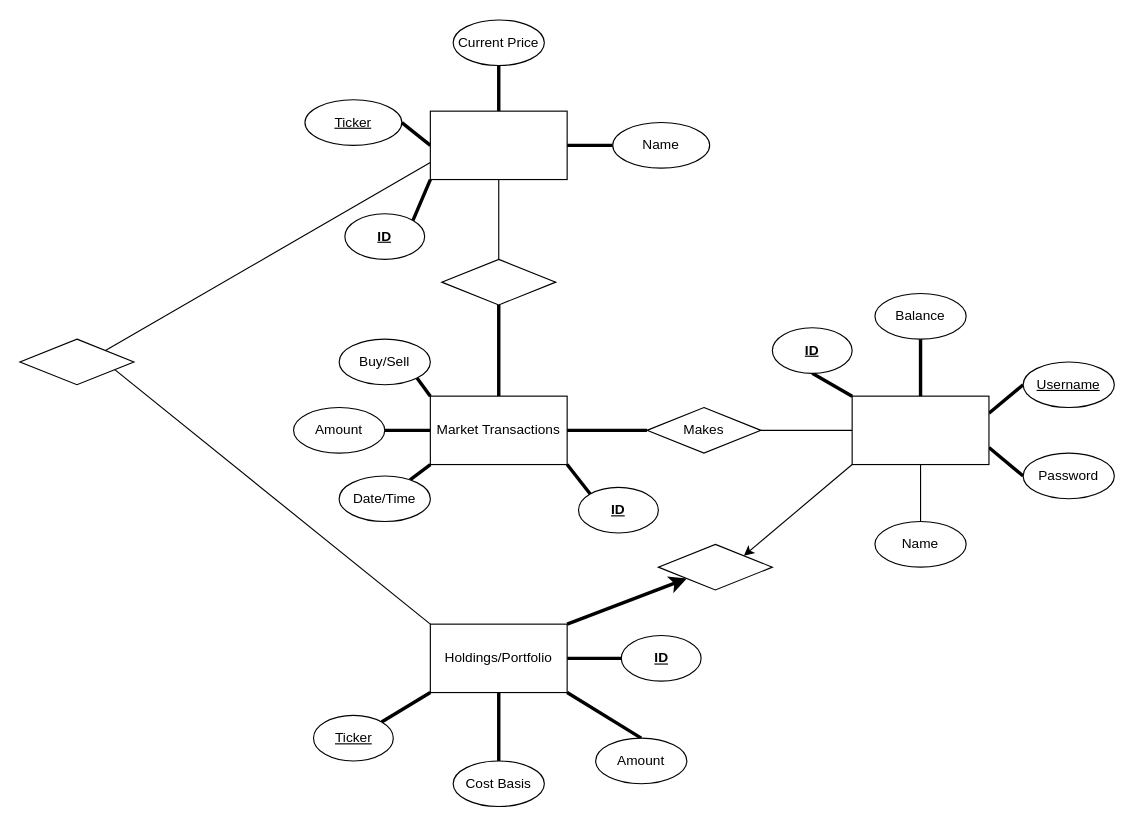
Image size: 1134x827. Some labels were removed from this diagram. Each missing label, with the centre of its shape:
"Held" goes at (76,361).
"Possesses" goes at (714,566).
"Selected" goes at (498,281).
"Stock" goes at (498,145).
"User Account" goes at (920,430).
